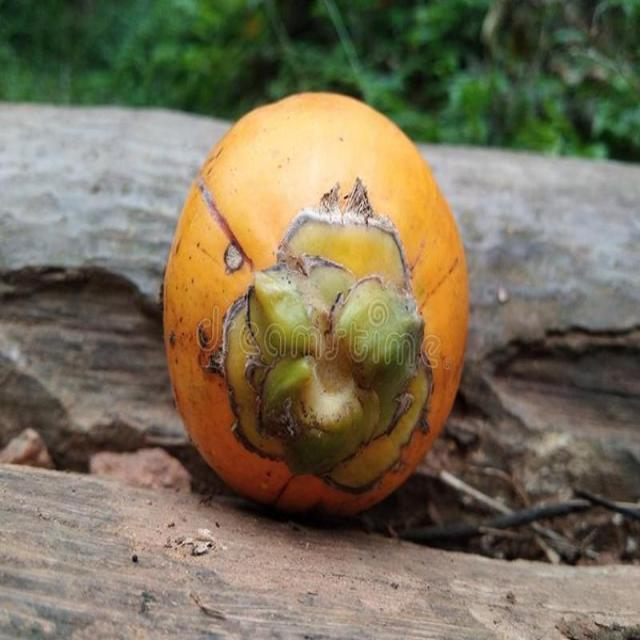good: (163, 93, 467, 513)
